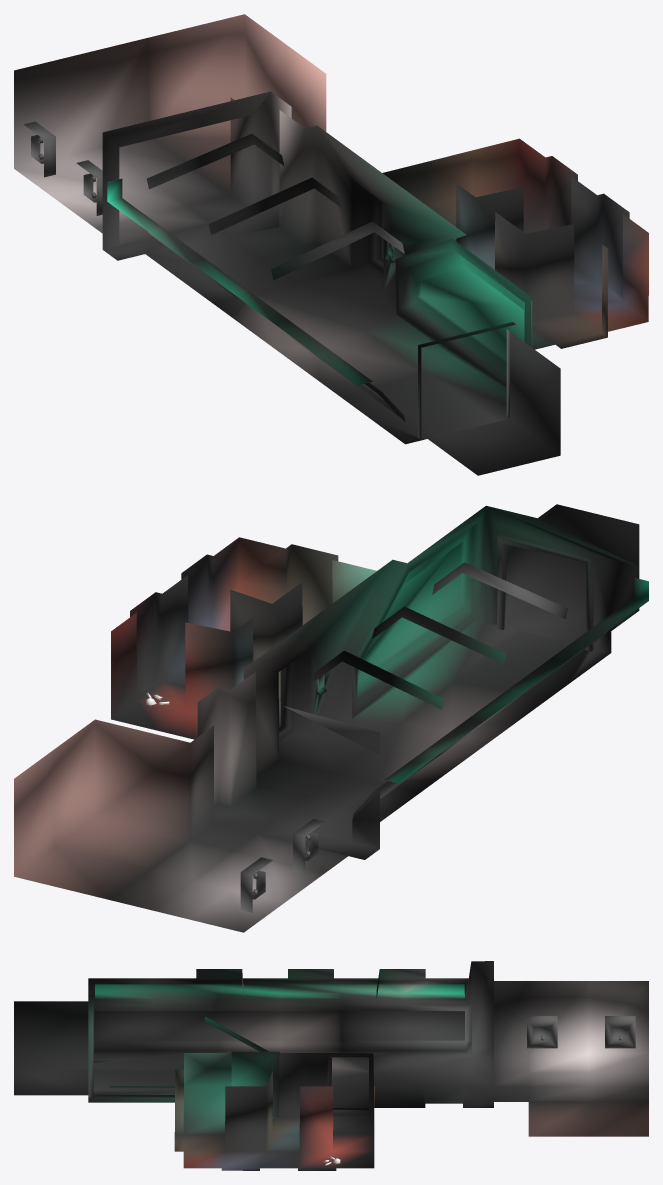
File: inside_corridorB.glb
3 views of the same model, one above another, from view 1: azimuth 30°, elevation 25°; view 2: azimuth 150°, elevation 25°; view 3: azimuth 270°, elevation 25° (orthographic). The views are drawn at different scales.
Visible parts, largest first — view 1: Plane.003; view 2: Plane.003; view 3: Plane.003.
Boxes of the visible parts, left/top/right/bottom form: Plane.003: left=14, top=14, right=648, bottom=475; Plane.003: left=14, top=504, right=648, bottom=932; Plane.003: left=14, top=961, right=648, bottom=1170.
Size of the model in its own units: 12.77 by 4.41 by 26.62.
